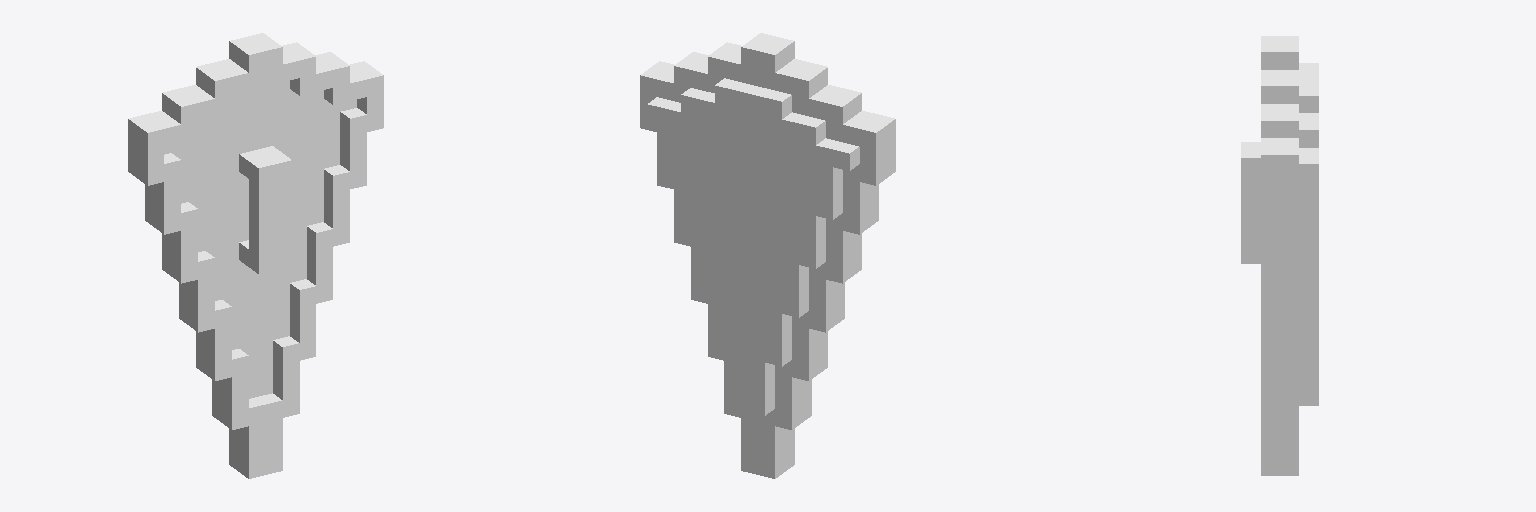
The model's file is shieldCrystal.vox.obj.
3 renders of one model, left to right at view 1: azimuth 30°, elevation 25°; view 2: azimuth 150°, elevation 25°; view 3: azimuth 270°, elevation 25°, orthographic.
Parts seen in each view (by area): view 1: object 1; view 2: object 1; view 3: object 1.
Boxes of the visible parts, box(x1,y1,x2,y2) form: object 1: box(128, 33, 383, 478); object 1: box(640, 33, 895, 478); object 1: box(1241, 36, 1318, 475).
Size of the model in its own units: 1.4 by 2.4 by 0.4.